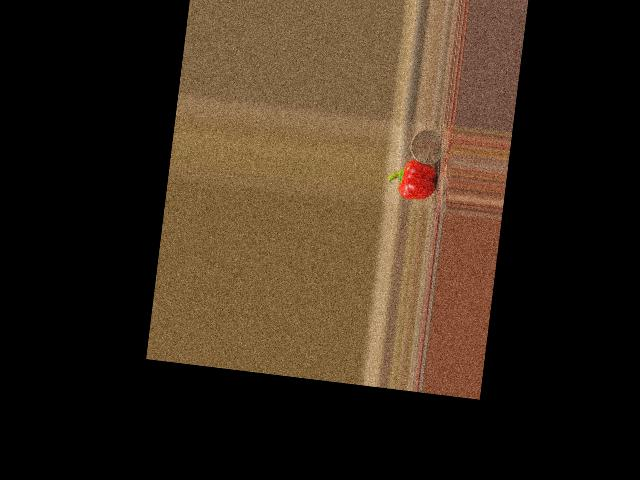bell_pepper: (385, 158, 440, 202)
